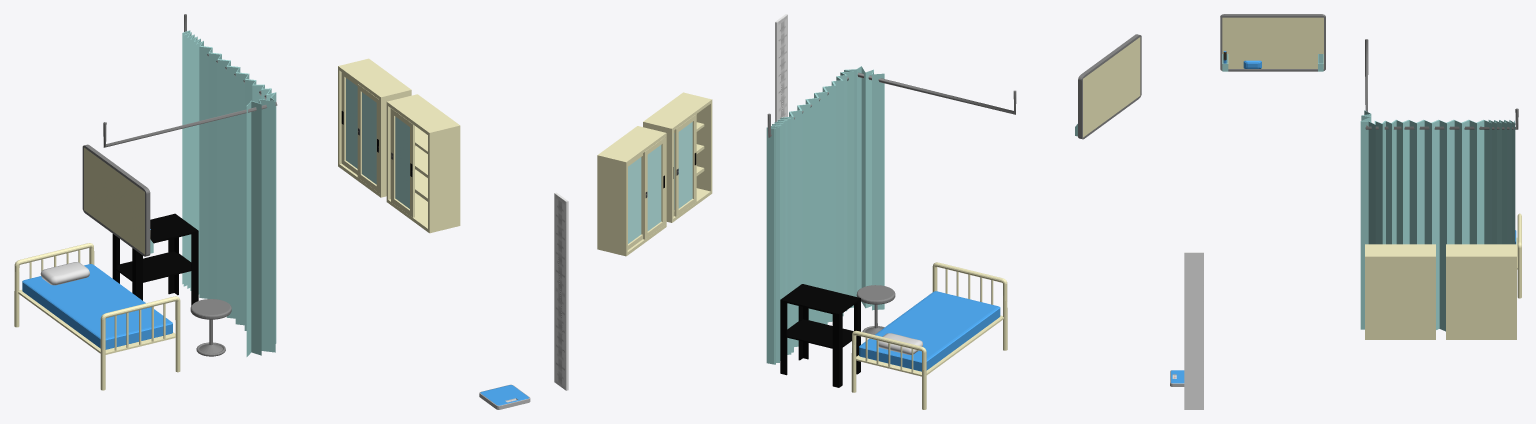
File: fixed nurse.fbx
3 views of the same model, side by side, from view 1: azimuth 30°, elevation 25°; view 2: azimuth 150°, elevation 25°; view 3: azimuth 270°, elevation 25° (orthographic). The views are drawn at different scales.
Visible parts, largest first — view 1: Curtain.002, CupBoard.004, CupBoard.002, futon.001, Pbase1.002, Btable.002, BEDwire, Hrightscale.001, chair.002, weight scale.001, BézierCurve.002, pillow.003; view 2: Curtain.002, CupBoard.002, CupBoard.004, futon.001, Btable.002, Pbase1.002, BEDwire, Hrightscale.001, BézierCurve.002, chair.002, pillow.003; view 3: Curtain.002, CupBoard.002, CupBoard.004, Pbase1.002, Hrightscale.001, BézierCurve.002, BEDwire.
Boxes of the visible parts, x1=… form: Curtain.002: x1=182, y1=30, x2=276, y2=356; CupBoard.004: x1=386, y1=94, x2=460, y2=233; CupBoard.002: x1=338, y1=58, x2=411, y2=197; futon.001: x1=22, y1=264, x2=172, y2=349; Pbase1.002: x1=82, y1=144, x2=153, y2=256; Btable.002: x1=112, y1=213, x2=198, y2=305; BEDwire: x1=14, y1=243, x2=180, y2=390; Hrightscale.001: x1=554, y1=192, x2=568, y2=390; chair.002: x1=190, y1=299, x2=231, y2=356; weight scale.001: x1=479, y1=384, x2=530, y2=409; BézierCurve.002: x1=103, y1=14, x2=277, y2=147; pillow.003: x1=40, y1=262, x2=89, y2=285; Curtain.002: x1=766, y1=66, x2=884, y2=364; CupBoard.002: x1=597, y1=126, x2=666, y2=256; CupBoard.004: x1=643, y1=92, x2=712, y2=222; futon.001: x1=859, y1=291, x2=1000, y2=371; Btable.002: x1=780, y1=284, x2=860, y2=387; Pbase1.002: x1=1075, y1=34, x2=1141, y2=139; BEDwire: x1=851, y1=262, x2=1007, y2=409; Hrightscale.001: x1=775, y1=14, x2=787, y2=121; BézierCurve.002: x1=767, y1=72, x2=1016, y2=137; chair.002: x1=856, y1=285, x2=895, y2=334; pillow.003: x1=878, y1=333, x2=922, y2=354; Curtain.002: x1=1360, y1=110, x2=1515, y2=331; CupBoard.002: x1=1446, y1=244, x2=1516, y2=339; CupBoard.004: x1=1365, y1=244, x2=1435, y2=339; Pbase1.002: x1=1220, y1=14, x2=1325, y2=71; Hrightscale.001: x1=1184, y1=252, x2=1203, y2=409; BézierCurve.002: x1=1365, y1=39, x2=1518, y2=129; BEDwire: x1=1516, y1=213, x2=1521, y2=298.
Size of the model in its own units: 4971 by 3343 by 4545.
Materials: 8 (4 with a texture image).
